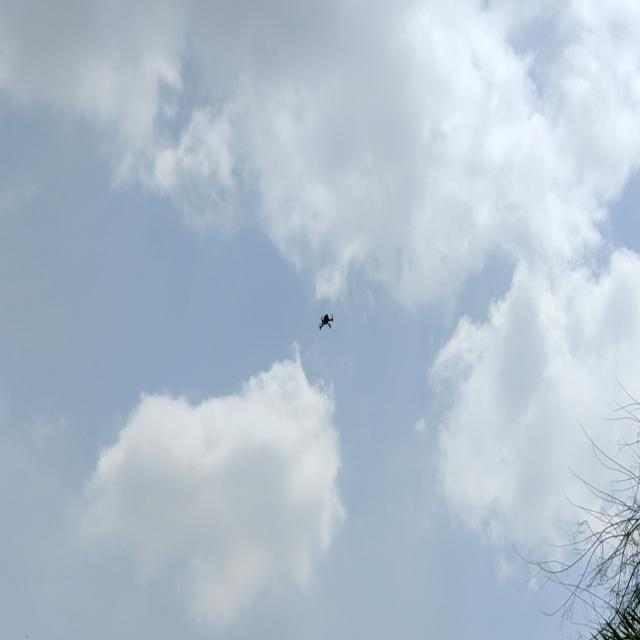drone: (312, 309, 340, 333)
